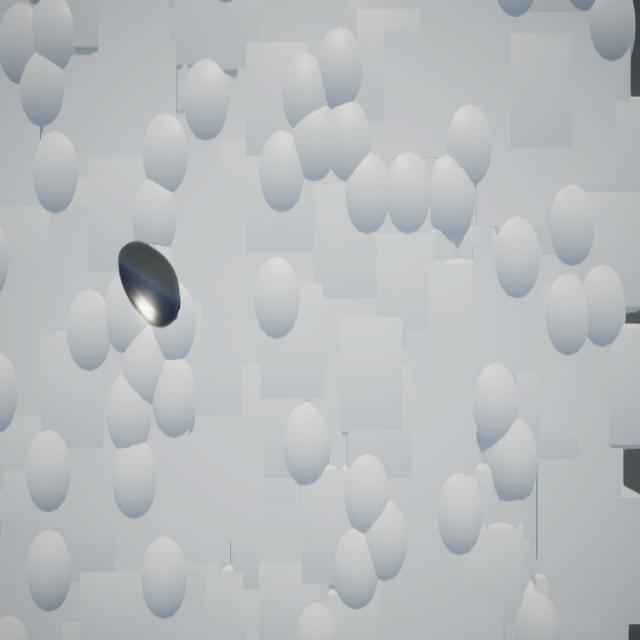top_spoon: (119, 243, 182, 330)
